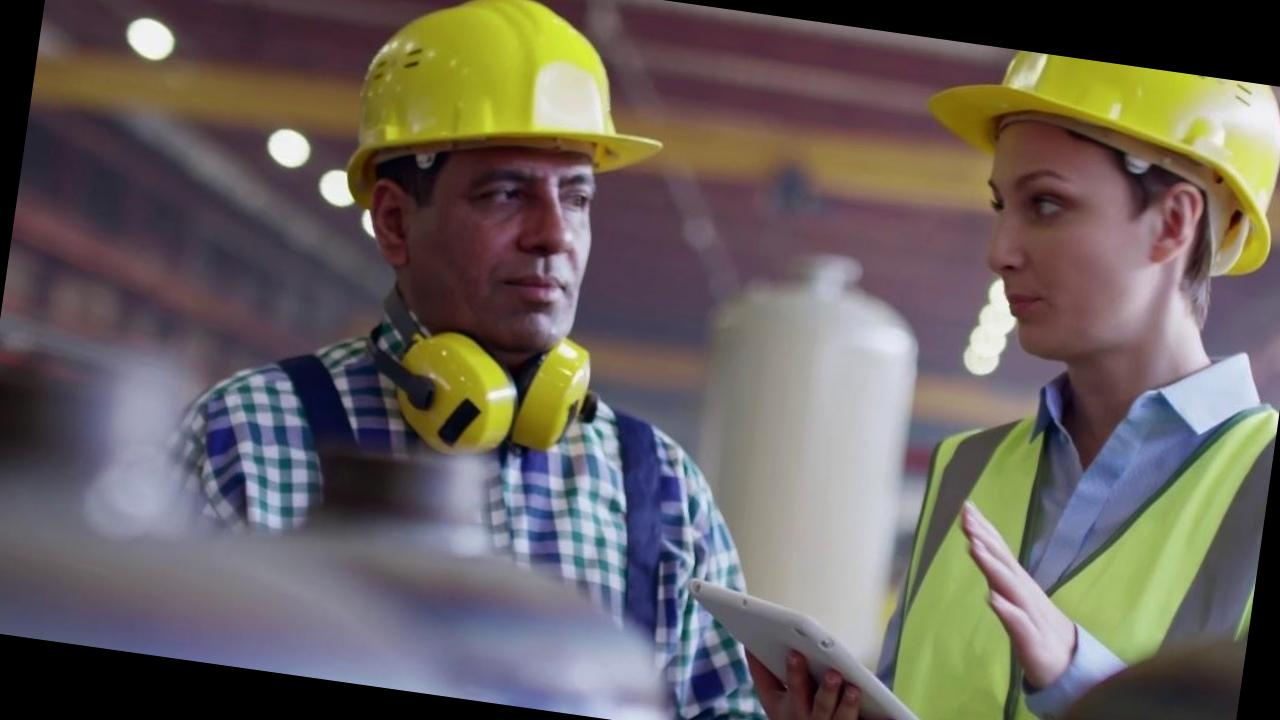helmet: (900, 37, 1280, 291), (324, 0, 682, 242)
no_vest: (186, 345, 694, 692)
person: (151, 0, 831, 707), (833, 44, 1280, 720)
